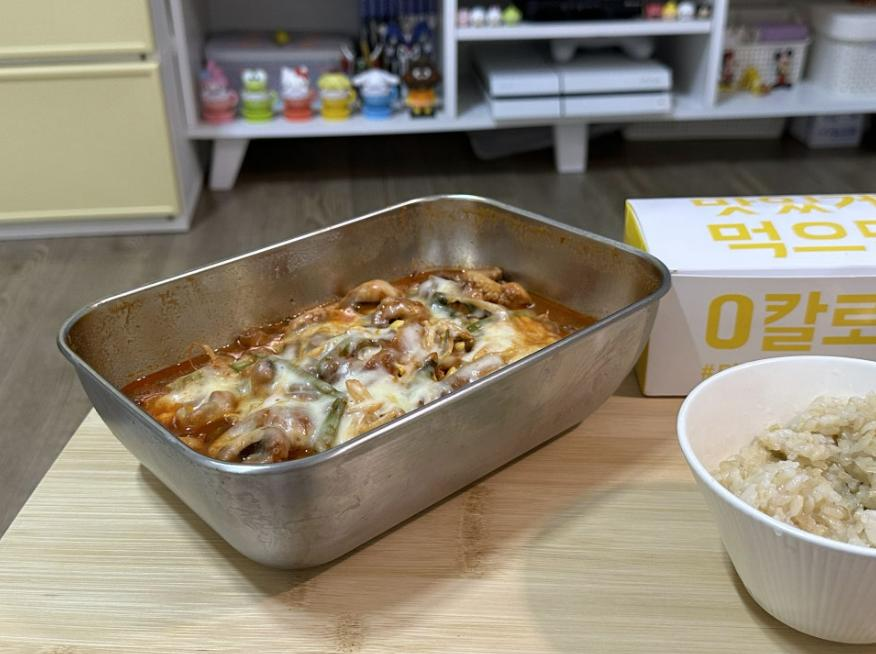Lunch Box: (59, 196, 669, 568), (676, 357, 875, 643), (625, 195, 875, 395)
